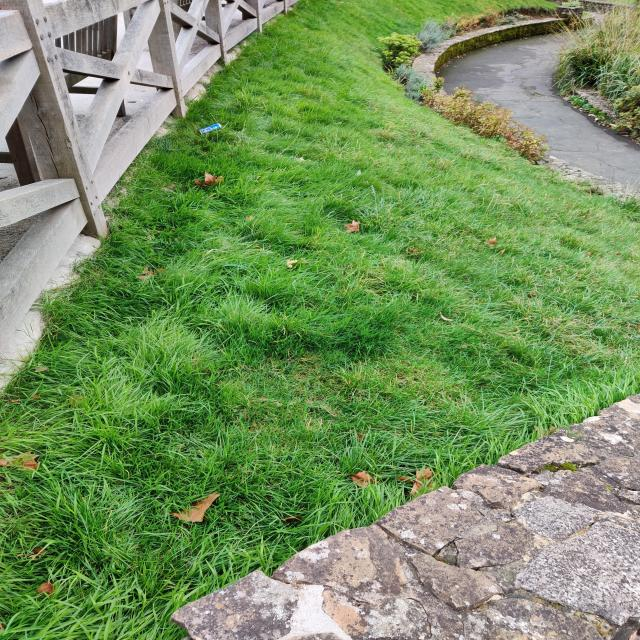litter: (191, 117, 235, 139)
